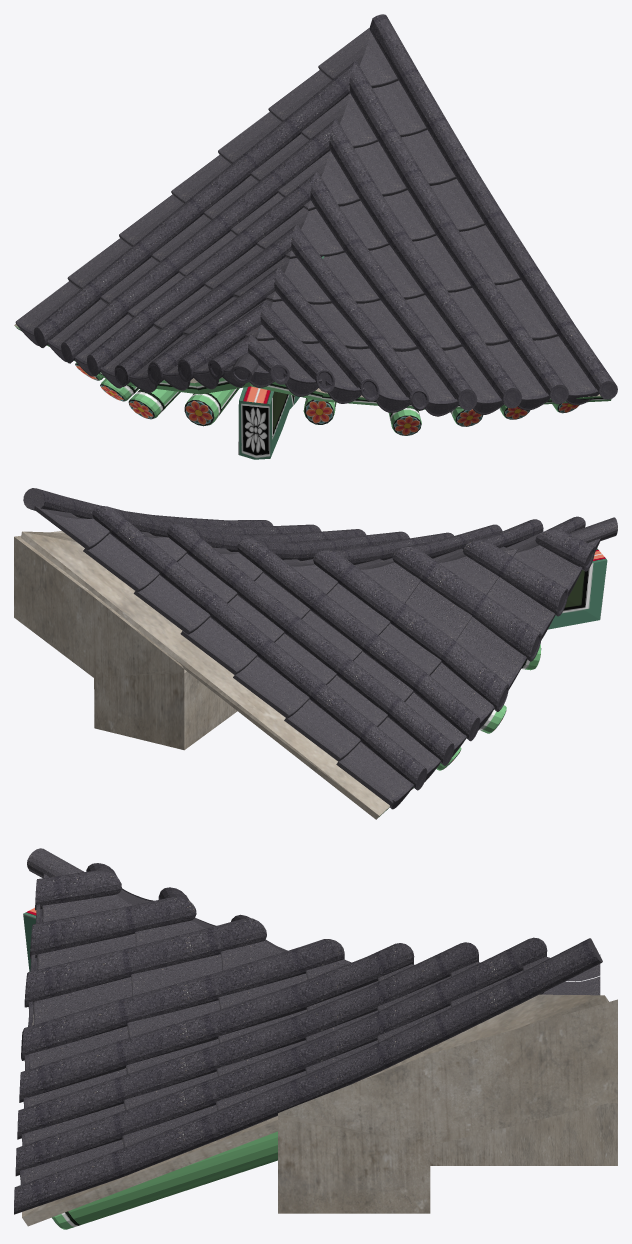
The model's file is SM_R_RoofCorner_6.fbx.
3 renders of one model, top to bottom at view 1: azimuth 30°, elevation 25°; view 2: azimuth 150°, elevation 25°; view 3: azimuth 270°, elevation 25°, orthographic. The views are drawn at different scales.
Visible parts, largest first — view 1: SM_R_RoofCorner_6; view 2: SM_R_RoofCorner_6; view 3: SM_R_RoofCorner_6.
Part boxes in pixels (x1,y1,x2,y2): SM_R_RoofCorner_6: [14, 14, 617, 459]; SM_R_RoofCorner_6: [14, 488, 617, 819]; SM_R_RoofCorner_6: [14, 848, 617, 1229].
Bounding box in the file's own units: 268 × 297 × 173.
Materials: 4 (4 with a texture image).
